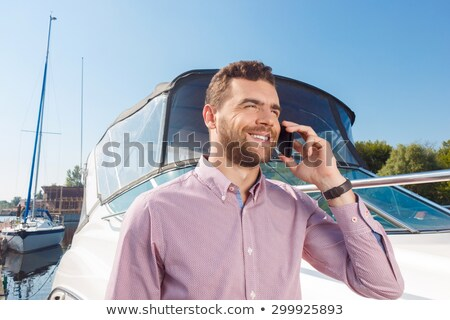phone: (272, 108, 315, 166)
talk: (228, 98, 334, 184)
